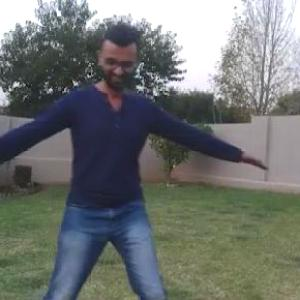land: (0, 46, 220, 299)
